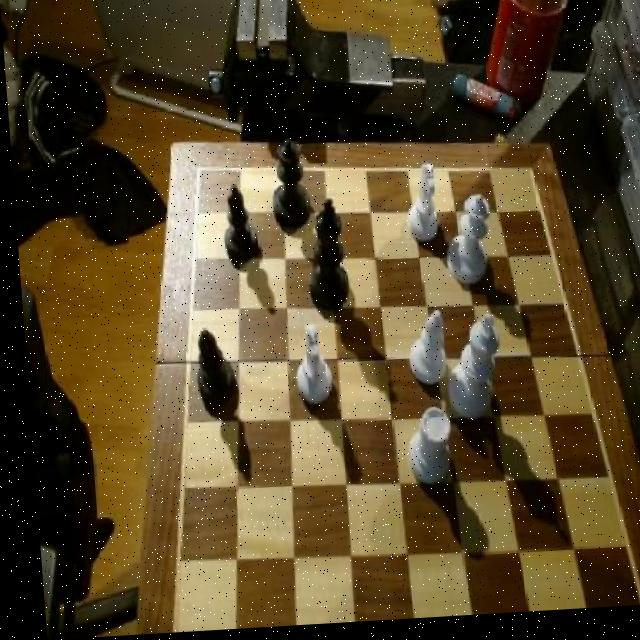bishop: (187, 327, 233, 418), (214, 184, 256, 270)
black-bishop: (297, 200, 347, 321)
black-pawn: (263, 138, 310, 238)
black-rook: (397, 313, 446, 395)
white-bishop: (438, 318, 501, 428)
white-king: (283, 326, 329, 413), (398, 166, 440, 252)
white-pawn: (437, 198, 492, 292)
white-queen: (396, 408, 448, 494)
